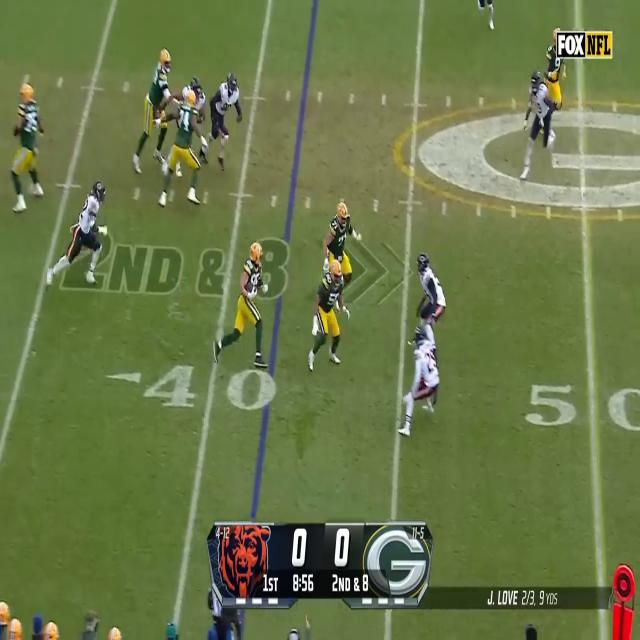Player: (63, 182, 106, 288), (138, 46, 173, 175), (231, 237, 265, 369), (164, 95, 203, 207), (11, 81, 42, 215), (206, 68, 242, 168), (311, 258, 341, 369), (522, 72, 552, 180), (416, 248, 448, 336), (404, 326, 438, 408), (326, 200, 350, 260), (548, 28, 563, 111)
